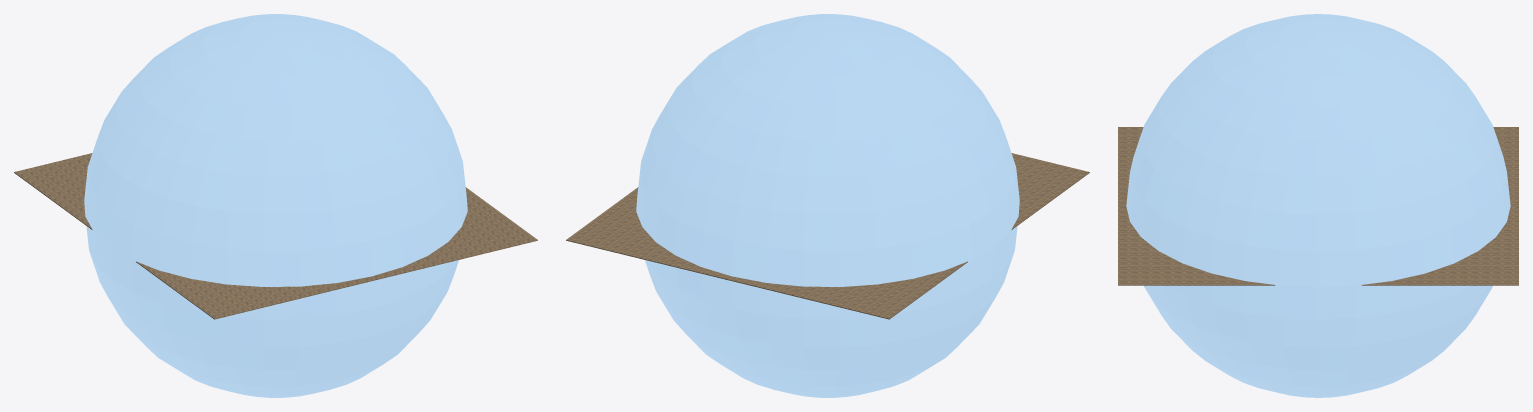
The model's file is JobSite.glb.
3 views of the same model, side by side, from view 1: azimuth 30°, elevation 25°; view 2: azimuth 150°, elevation 25°; view 3: azimuth 270°, elevation 25° (orthographic).
Parts seen in each view (by area): view 1: Sky, ApronS, ApronN; view 2: Sky, ApronN, ApronS; view 3: Sky, ApronN, ApronS.
Part boxes in pixels (x1,y1,x2,y2): Sky: (84, 14, 467, 397); ApronS: (139, 187, 537, 319); ApronN: (14, 153, 92, 227); Sky: (636, 14, 1019, 397); ApronN: (566, 187, 964, 319); ApronS: (1011, 153, 1089, 227); Sky: (1126, 14, 1510, 397); ApronN: (1368, 127, 1518, 285); ApronS: (1118, 127, 1268, 285).
Size of the model in its own units: 140 by 140 by 146.
22 materials, 3 textured.
